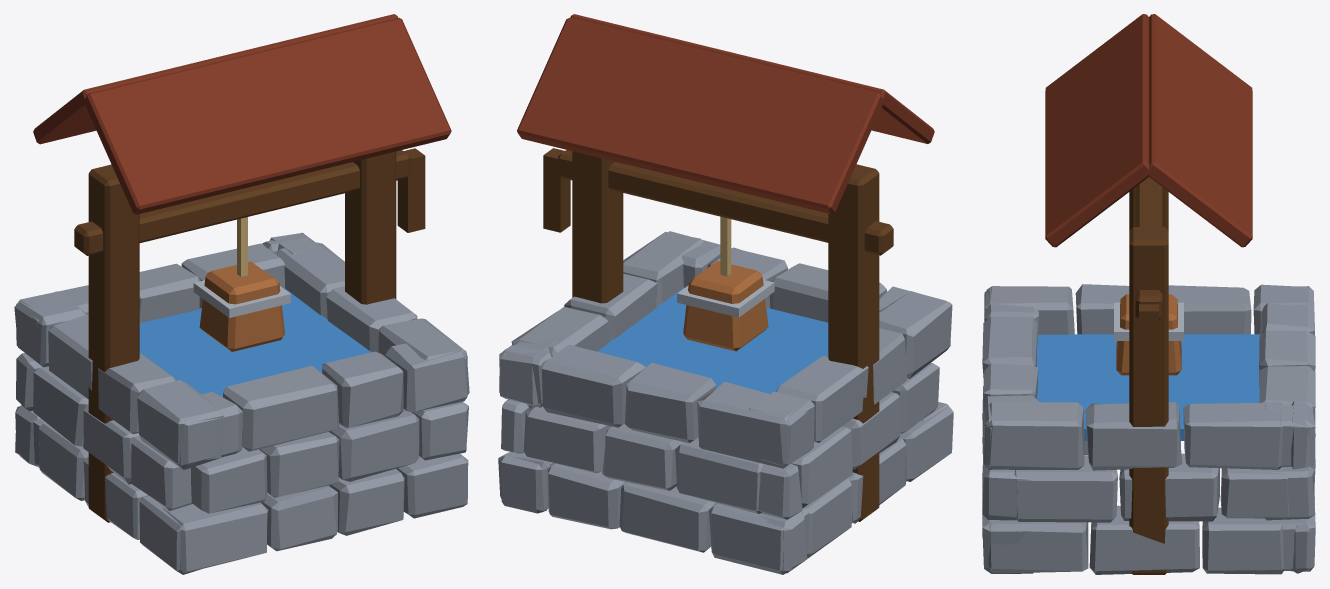
File: Well.fbx
3 views of the same model, side by side, from view 1: azimuth 30°, elevation 25°; view 2: azimuth 150°, elevation 25°; view 3: azimuth 270°, elevation 25° (orthographic). The views are drawn at different scales.
Visible parts, largest first — view 1: Stone, Roof, Wood, Water, Bucket, Metal, Rope; view 2: Stone, Roof, Wood, Water, Bucket, Metal, Rope; view 3: Stone, Roof, Wood, Water, Bucket, Metal.
Part boxes in pixels (left/top/right/bottom): Stone: left=14, top=232, right=469, bottom=574; Roof: left=33, top=14, right=451, bottom=214; Wood: left=74, top=148, right=425, bottom=522; Water: left=139, top=288, right=371, bottom=397; Bucket: left=199, top=261, right=284, bottom=351; Metal: left=193, top=280, right=290, bottom=317; Rope: left=237, top=217, right=247, bottom=276; Stone: left=498, top=231, right=953, bottom=574; Roof: left=517, top=14, right=934, bottom=214; Wood: left=543, top=148, right=893, bottom=521; Water: left=597, top=287, right=828, bottom=393; Bucket: left=683, top=261, right=768, bottom=351; Metal: left=677, top=279, right=774, bottom=317; Rope: left=720, top=216, right=731, bottom=276; Stone: left=982, top=284, right=1315, bottom=574; Roof: left=1045, top=14, right=1252, bottom=247; Wood: left=1129, top=177, right=1168, bottom=574; Water: left=1037, top=334, right=1259, bottom=440; Bucket: left=1116, top=294, right=1181, bottom=375; Metal: left=1114, top=302, right=1183, bottom=340.
Size of the model in its own units: 5.85 by 7.01 by 5.06.
